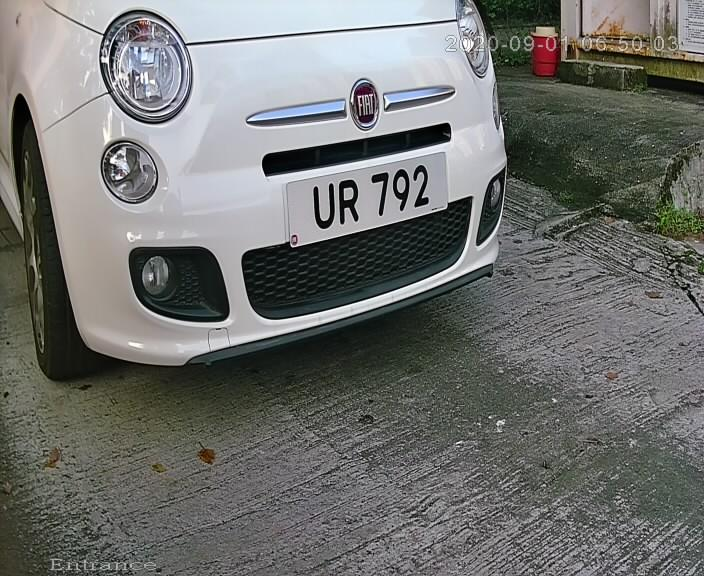Car: (13, 1, 544, 397)
License Plate: (290, 145, 450, 250)
